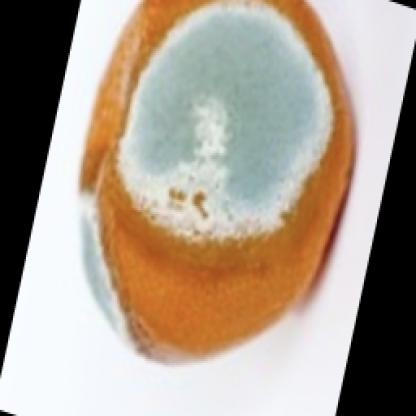rotten: (76, 1, 357, 372)
